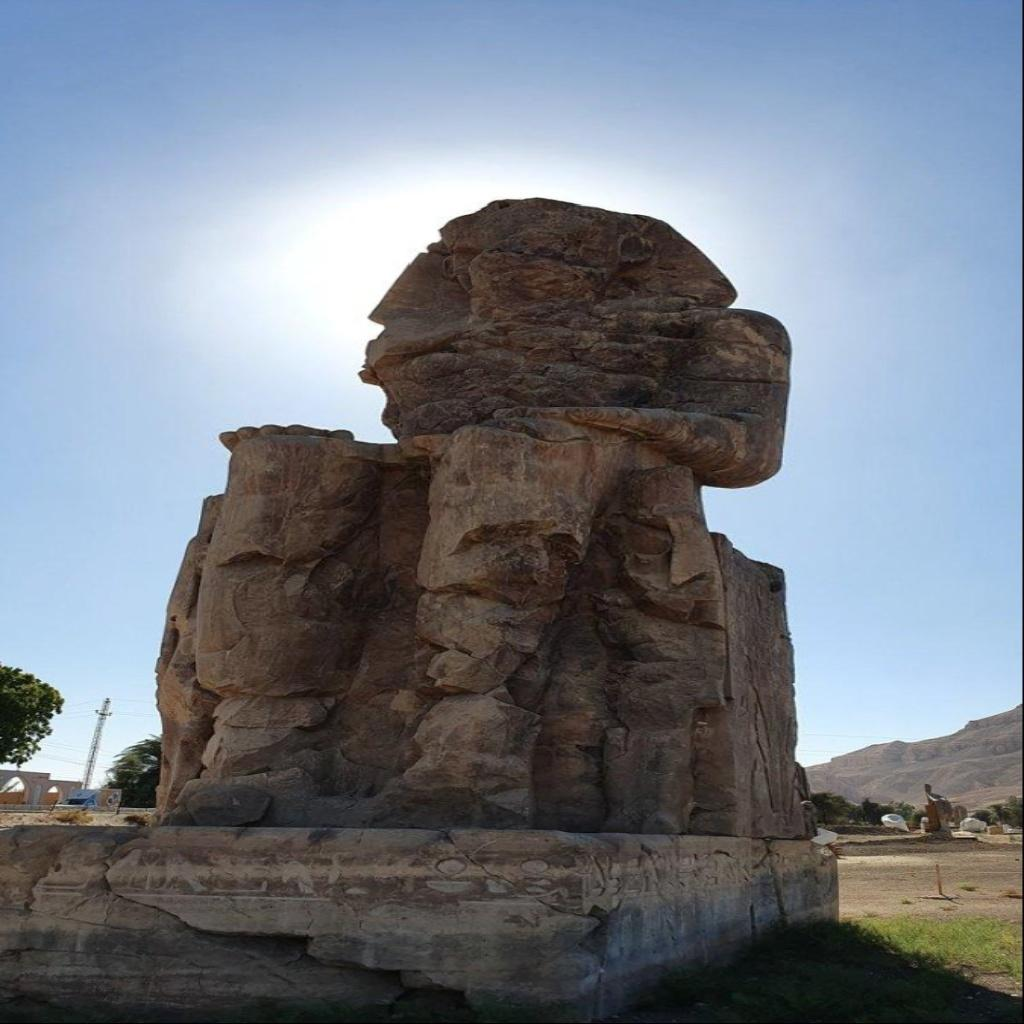Colossoi of Memnon: (146, 195, 822, 838)
